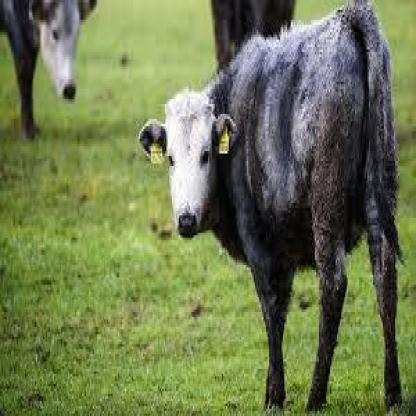cow: (138, 0, 406, 416), (0, 0, 98, 143), (210, 0, 299, 97)
